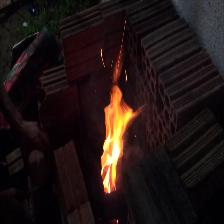fire: (73, 39, 151, 209)
